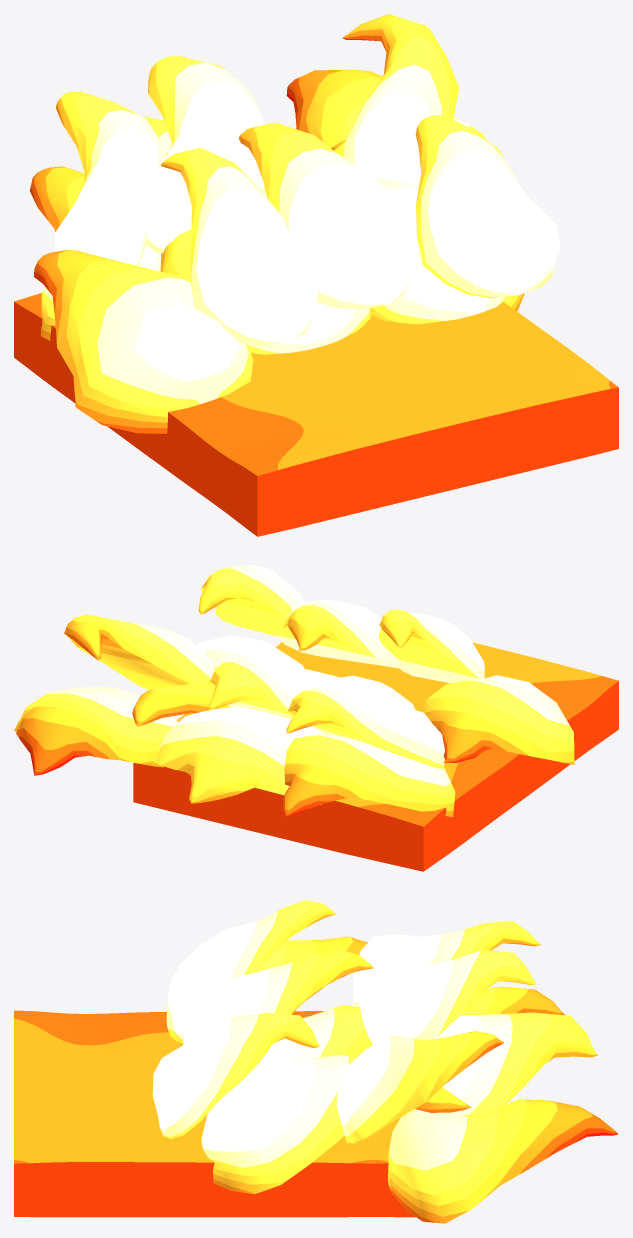
The model's file is fire_mid_c.glb.
The picture shows the model from 3 angles, top to bottom: view 1: azimuth 30°, elevation 25°; view 2: azimuth 150°, elevation 25°; view 3: azimuth 270°, elevation 25°; orthographic projection. The views are drawn at different scales.
Parts seen in each view (by area): view 1: fire_mid_c; view 2: fire_mid_c; view 3: fire_mid_c.
Boxes of the visible parts, bbox=[...] form: fire_mid_c: bbox=[14, 14, 618, 536]; fire_mid_c: bbox=[14, 565, 618, 871]; fire_mid_c: bbox=[14, 900, 618, 1223].
Size of the model in its own units: 37.08 by 15.13 by 40.
